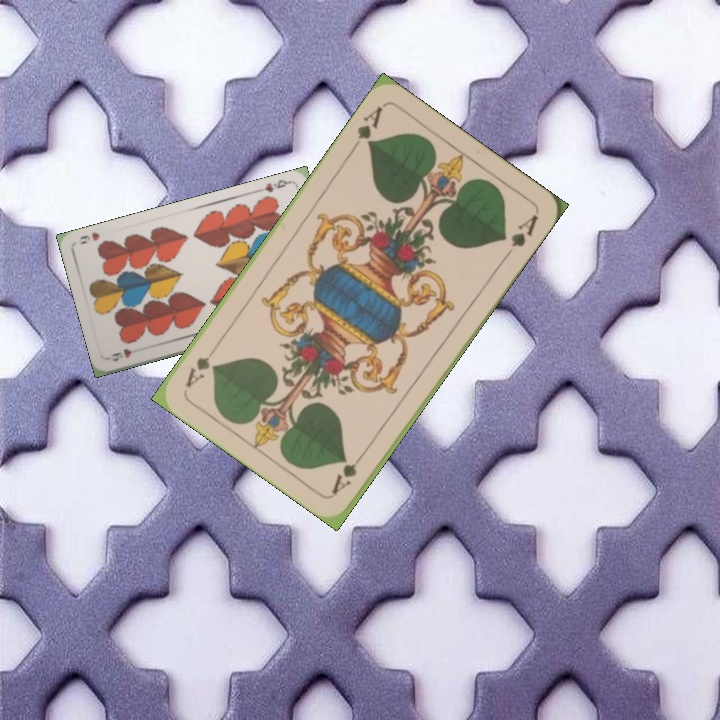GA: (327, 446, 369, 497), (347, 102, 385, 154)
H9: (105, 344, 145, 364), (254, 175, 294, 195)
